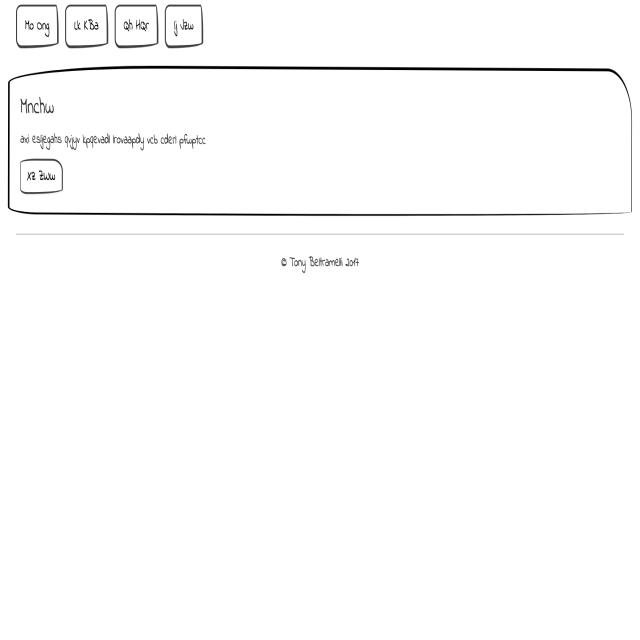Button: (17, 157, 74, 200)
Card: (6, 68, 640, 222)
Footer: (4, 226, 640, 640)
Heading 6: (17, 94, 58, 122)
Navigation Bar: (9, 1, 214, 59)
Paragraph: (17, 125, 210, 157)
